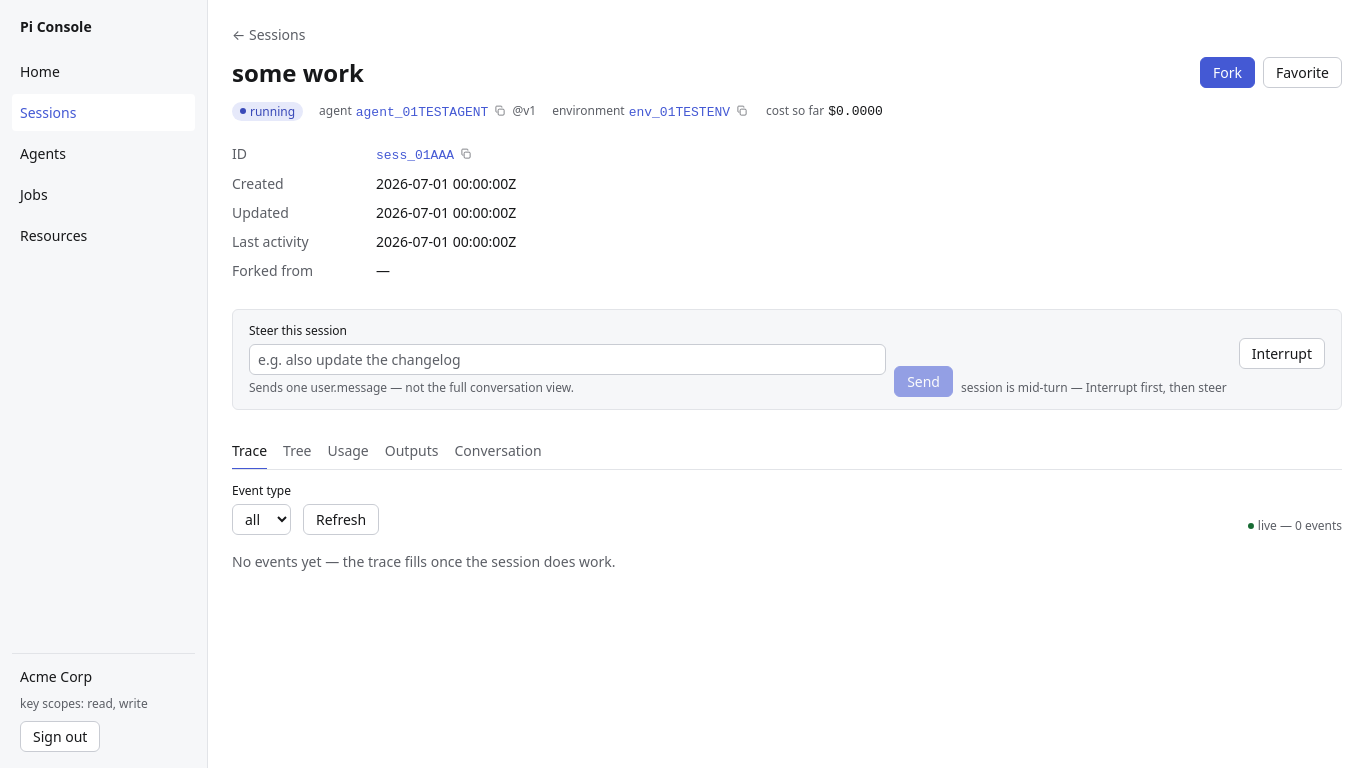
Test: interrupt (W4 step 3) › running + write: confirm-free, posts user.interrupt, acknowledged by toast
Expected: the element named "Session detail" is shown, top-left (232, 434), bottom-right (1342, 470)
What coordinates should you click on to do the following:
click the button "Interrupt"
I would click on:
 (1282, 354)
Its box is top-left (1239, 338), bottom-right (1325, 369).
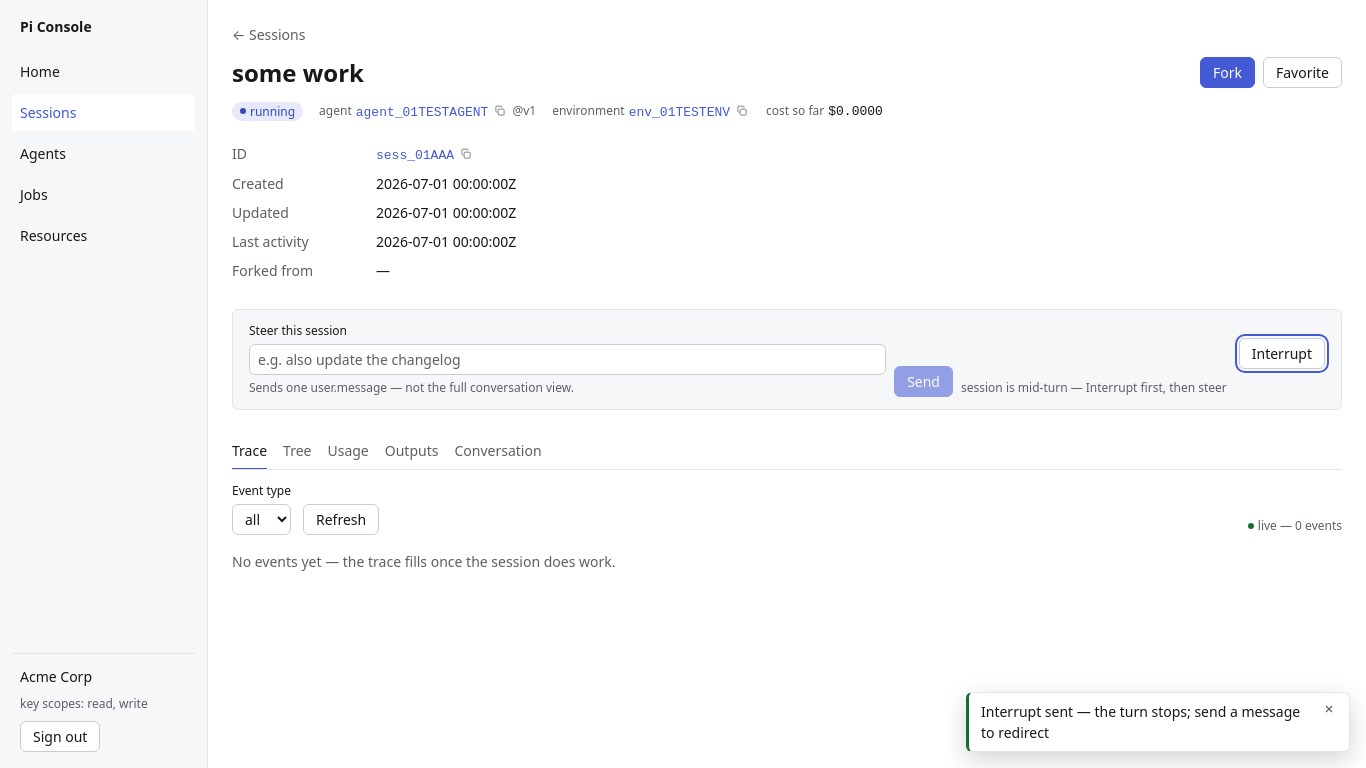
Expected: the text "Interrupt sent — the turn stops; send a message to redirect" is shown, top-left (981, 701), bottom-right (1313, 743)
